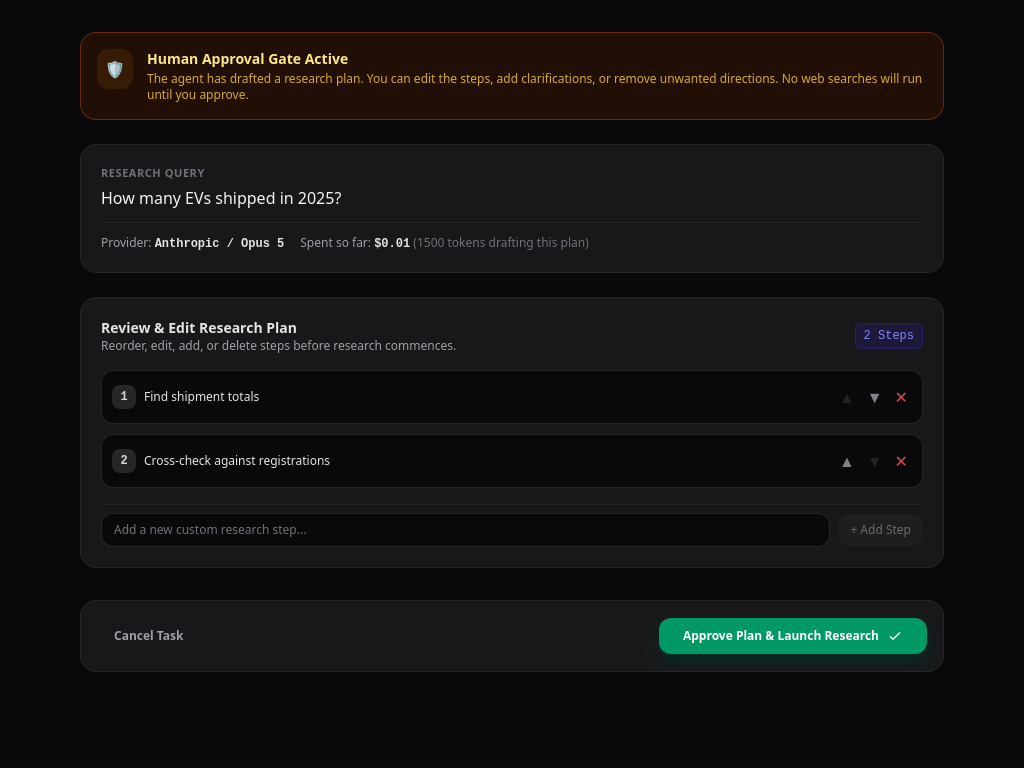
Test: PlanApprovalGate › deletes a step, and will not delete the last one
Click the 1st button titled "Delete step": (901, 396) [891, 380, 912, 412]
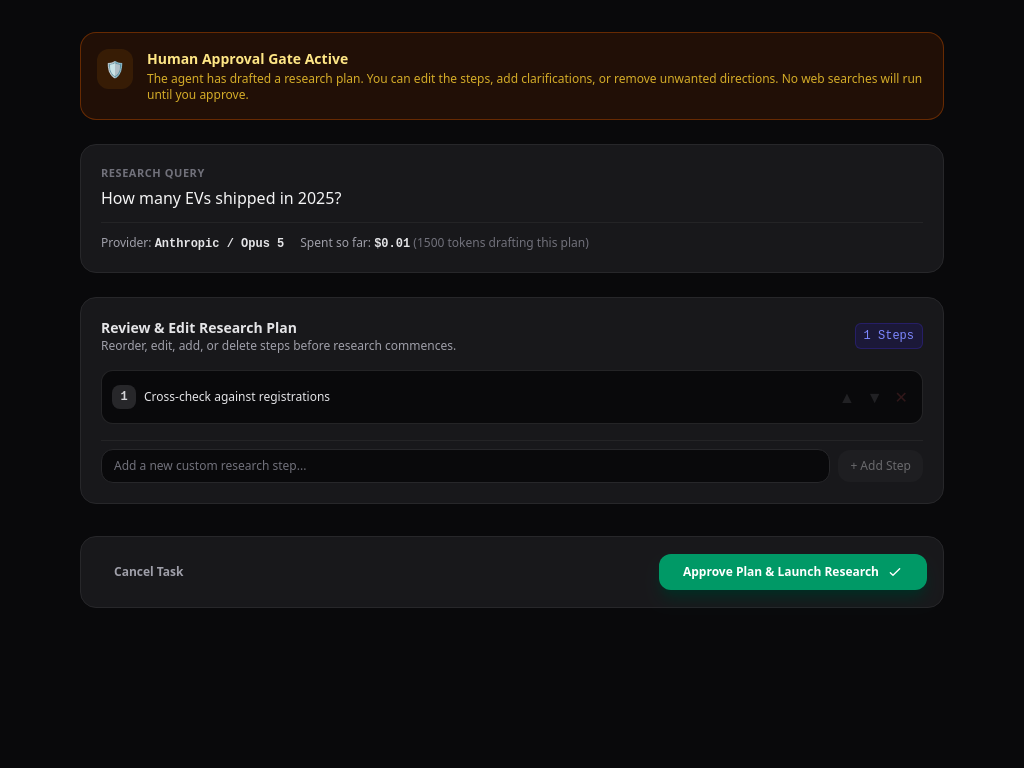
Now the button titled "Delete step" is disabled, box [891, 380, 912, 412]
